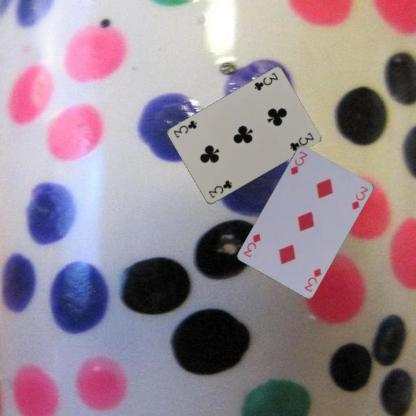3c: (251, 70, 280, 92), (206, 178, 233, 199)
3d: (288, 148, 309, 176), (302, 265, 322, 293)
